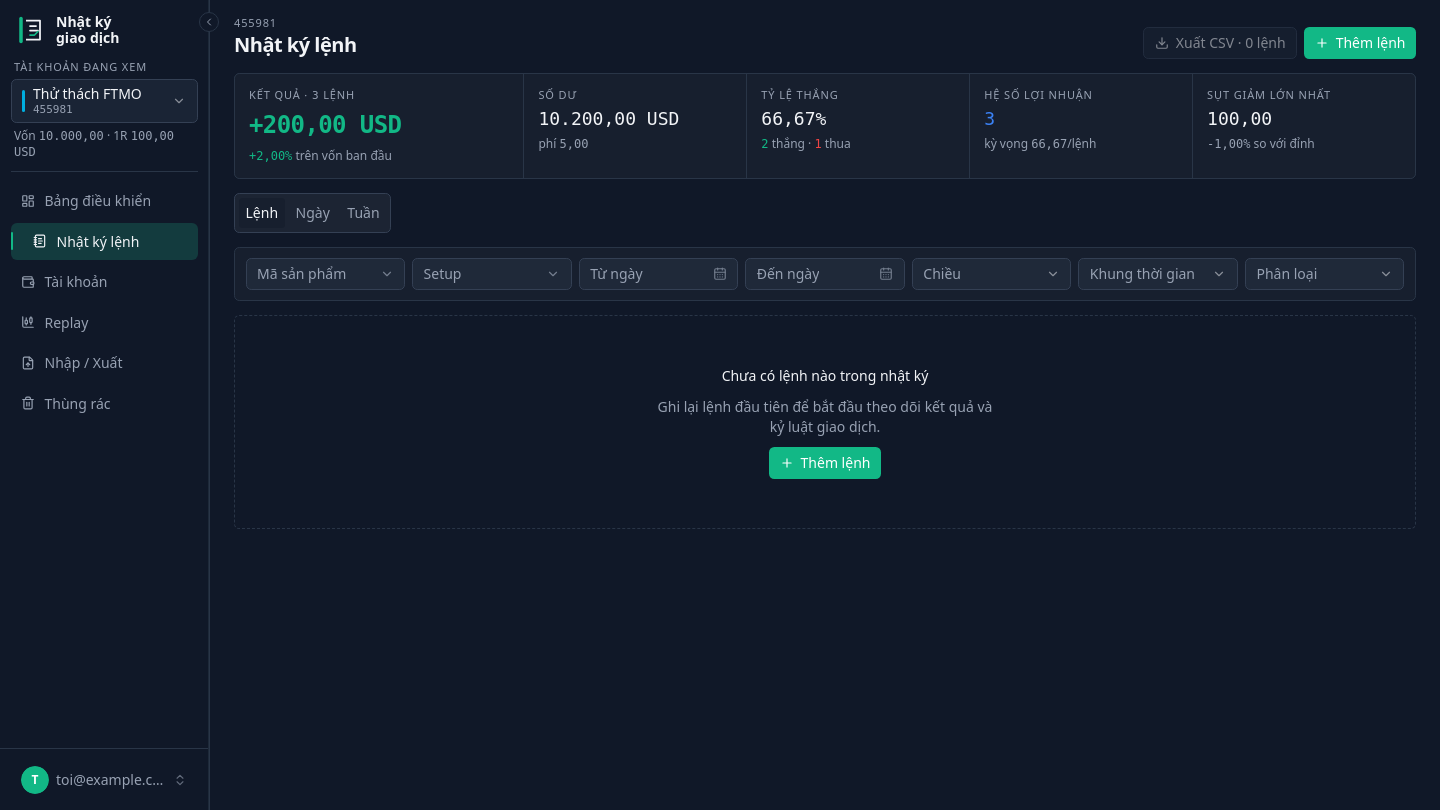
Scenario: danh sách phân biệt được hai tài khoản chỉ lệch chữ số cuối
Click the dropdown named "tài khoản đang xem" at (104, 101), box [10,79,198,123]
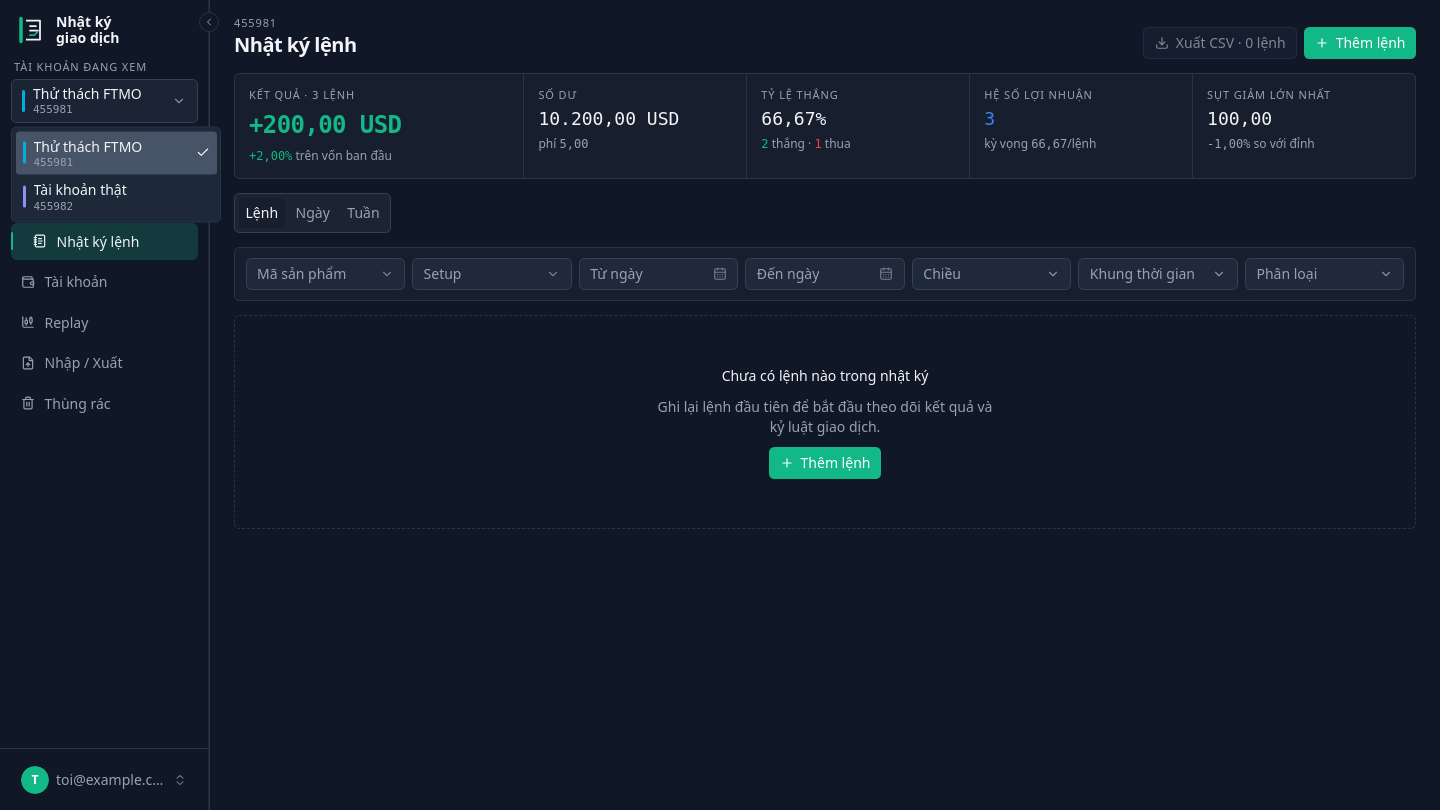
Expected: the option "Thử thách FTMO 455981" does not show "10.000,00", [16,131,216,175]
Now the option "Thử thách FTMO 455981" is shown, box [16,131,216,175]
Now the option "Tài khoản thật 455982" is shown, box [22,180,127,212]
